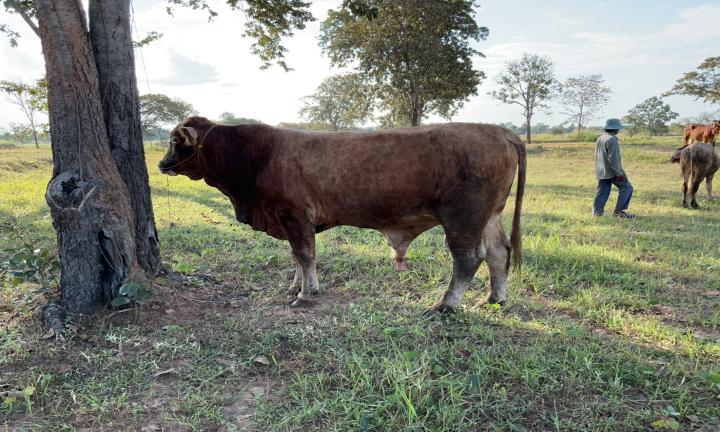Charolais: (159, 116, 526, 311)
